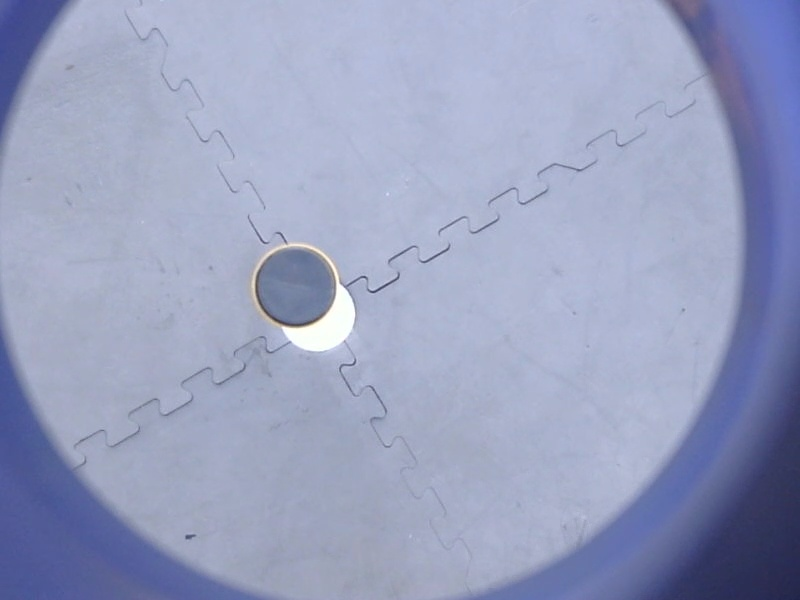tip: (246, 238, 344, 336)
